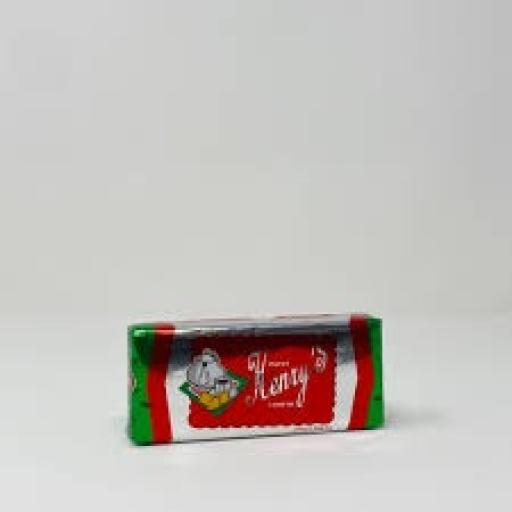golden: (71, 268, 458, 486)
